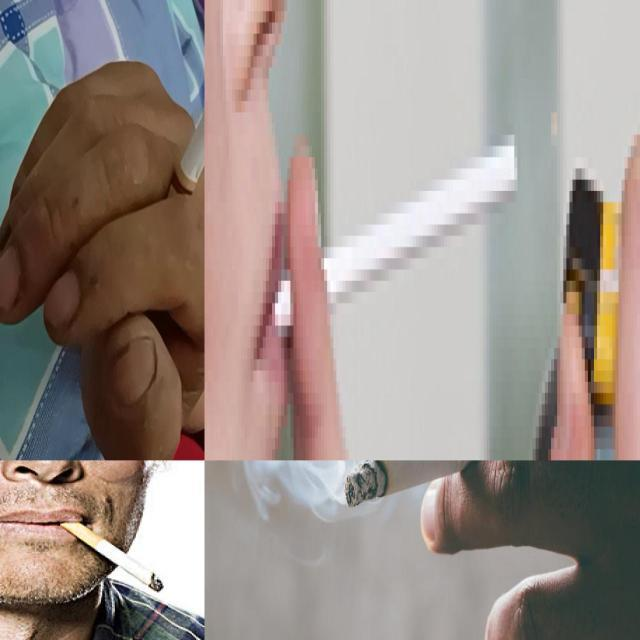smoking: (269, 136, 516, 330), (157, 19, 204, 236), (346, 461, 507, 514), (60, 516, 164, 594)
